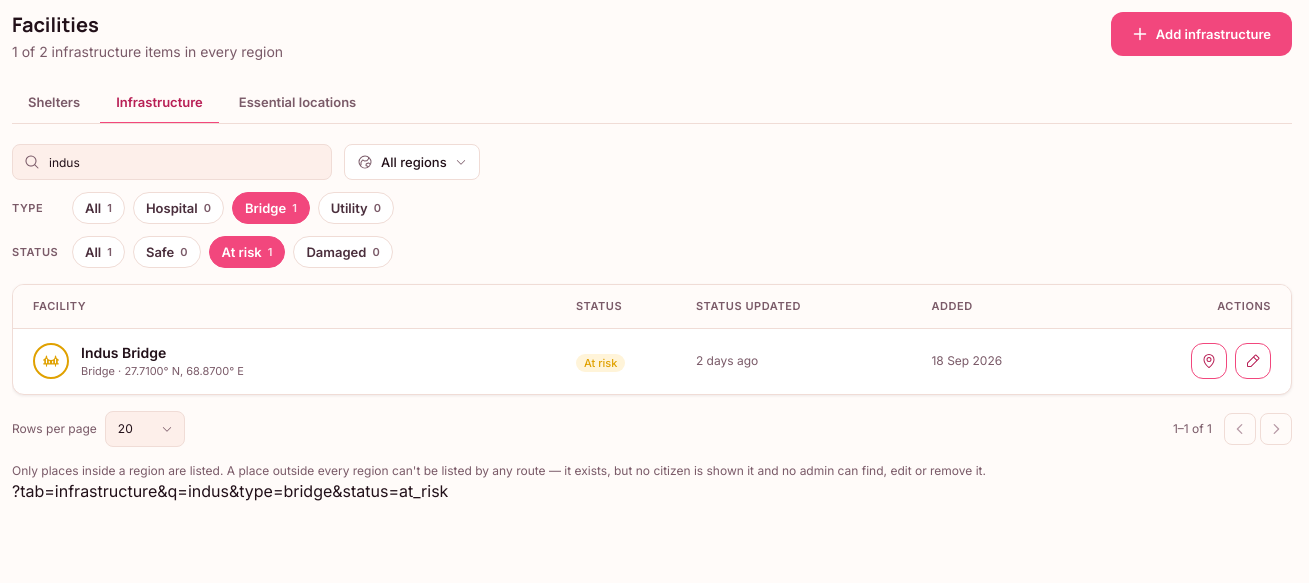
Test: FacilitiesPage — reading › keeps the tab in the URL, opens on a tab named there, and starts a tab with no filters
Expected: the text "Indus Bridge" is shown, left=81, top=344, right=166, bottom=361
Expected: the search field holds "indus", left=12, top=144, right=332, bottom=180
Click the tab "Essential locations": [298, 103] box left=223, top=82, right=372, bottom=124
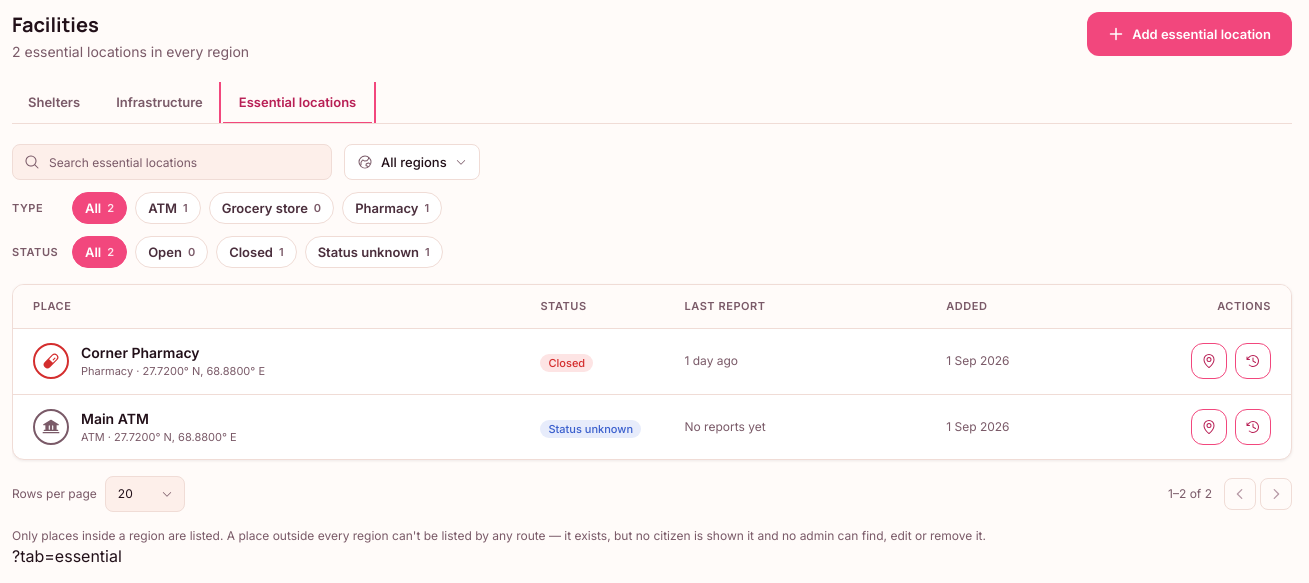
Result: the text "Corner Pharmacy" is shown at left=81, top=344, right=200, bottom=361
Result: the text with test id "where" reads "?tab=essential" at left=12, top=546, right=122, bottom=566
Result: the search field is empty at left=12, top=144, right=332, bottom=180
